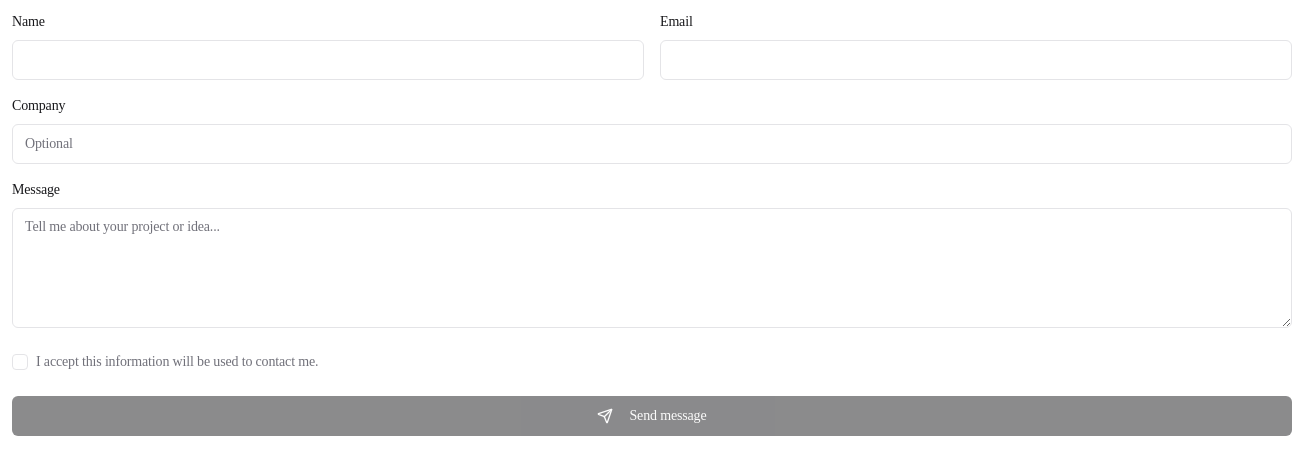
ContactForm › keeps the submit button disabled until terms are accepted
Expected: the button "Send message" is disabled, x1=12 y1=396 x2=1292 y2=436
Click the checkbox.
click(20, 362)  # box x1=12 y1=354 x2=28 y2=370
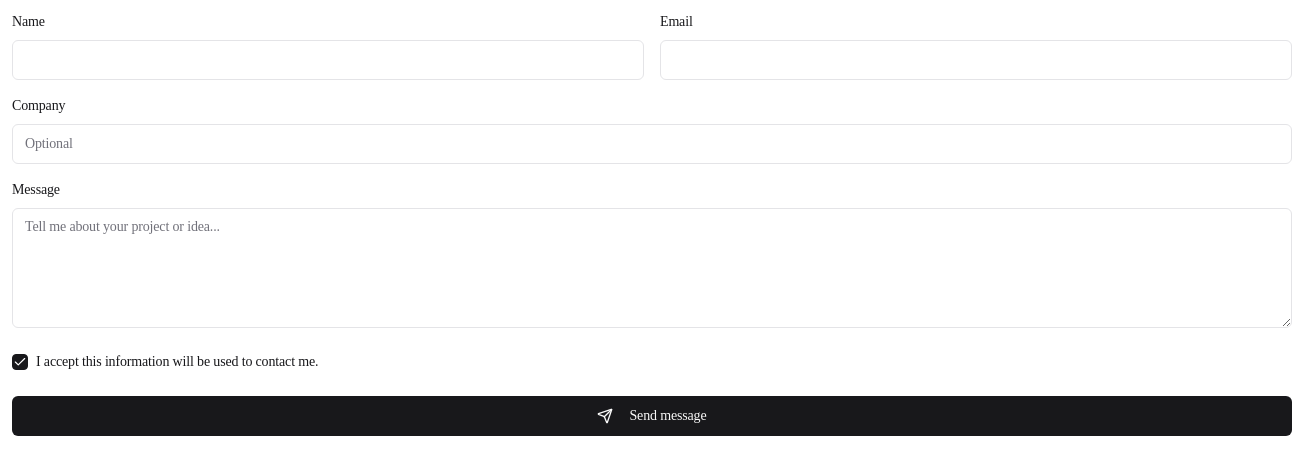
Now the button "Send message" is enabled, box x1=12 y1=396 x2=1292 y2=436
